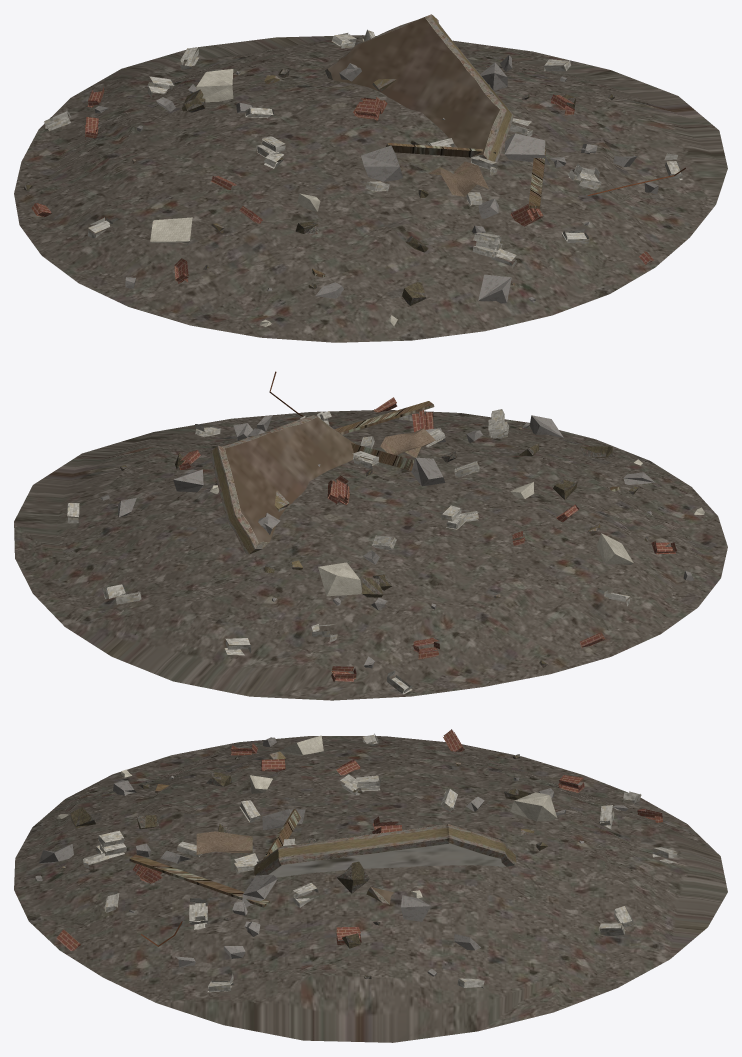
Rendered from rubble_10.glb.
3 views of the same model, one above another, from view 1: azimuth 30°, elevation 25°; view 2: azimuth 150°, elevation 25°; view 3: azimuth 270°, elevation 25° (orthographic). The views are drawn at different scales.
Visible parts, largest first — view 1: rubble_10; view 2: rubble_10; view 3: rubble_10.
Boxes of the visible parts, x1=… form: rubble_10: x1=14, y1=14, x2=727, y2=342; rubble_10: x1=14, y1=371, x2=727, y2=700; rubble_10: x1=14, y1=729, x2=727, y2=1042.
Size of the model in its own units: 7.79 by 1.4 by 7.66.
Materials: 1 (1 with a texture image).
